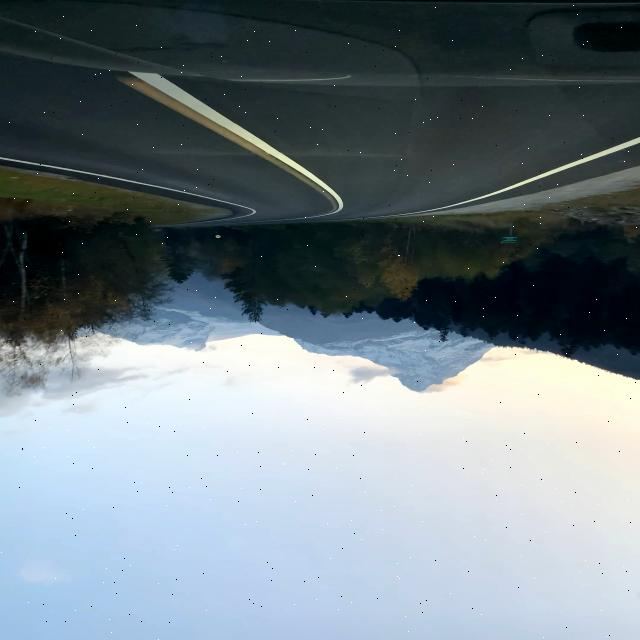lane: (118, 71, 344, 220), (382, 136, 640, 216)
road: (2, 0, 639, 224)
